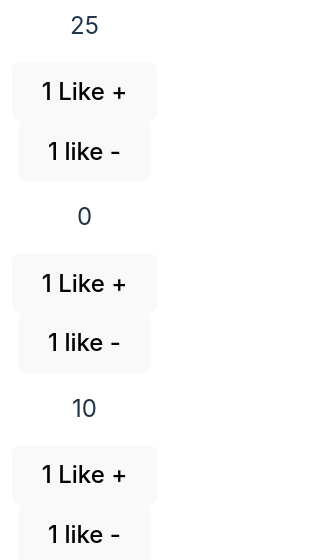
Test: like 2 al sumar un click
Click the button with test id "plus2": (84, 283) [12, 253, 157, 313]
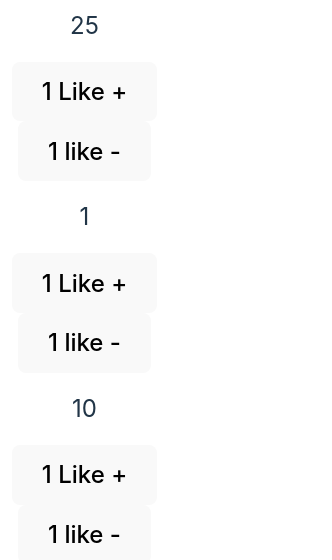
Check: the text with test id "countLike2" reads "1", box [80, 202, 89, 231]
